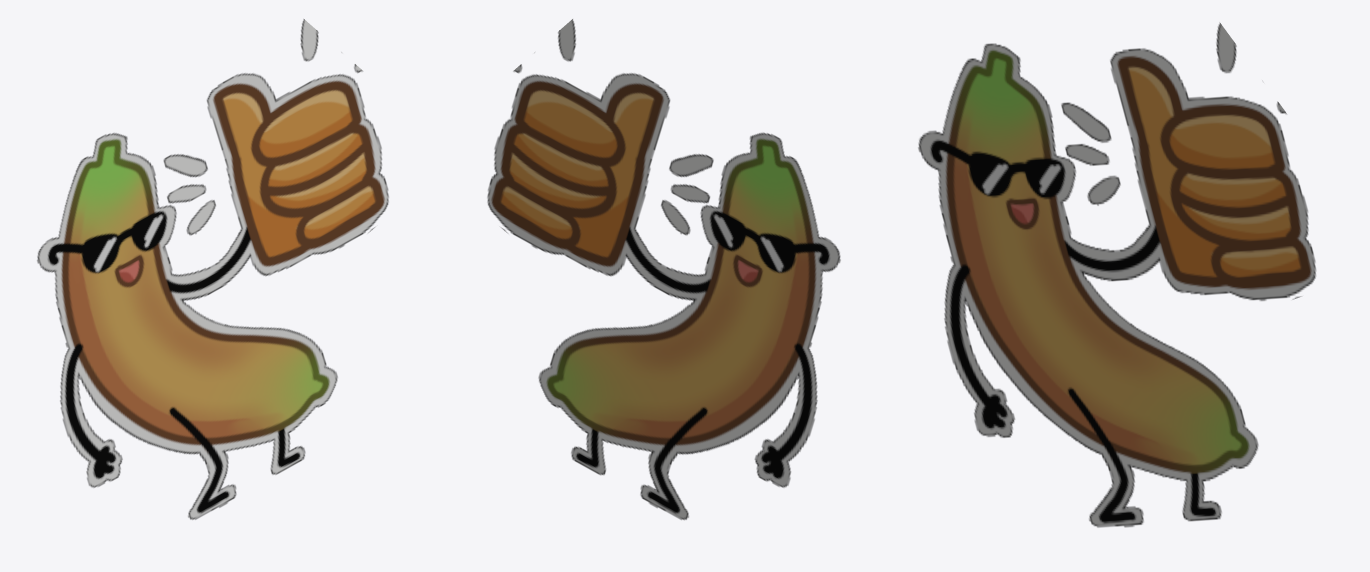
Rendered from Sticker_07.glb.
The picture shows the model from 3 angles, left to right: view 1: azimuth 30°, elevation 25°; view 2: azimuth 150°, elevation 25°; view 3: azimuth 330°, elevation 25°; orthographic projection. The views are drawn at different scales.
Parts seen in each view (by area): view 1: Sticker_07; view 2: Sticker_07; view 3: Sticker_07.
Part boxes in pixels (left/top/right/bottom): Sticker_07: left=37, top=19, right=388, bottom=519; Sticker_07: left=487, top=19, right=840, bottom=519; Sticker_07: left=918, top=23, right=1315, bottom=527.
Bounding box in the file's own units: 2.36 × 2.7 × 0.00716.
1 material, 1 textured.
